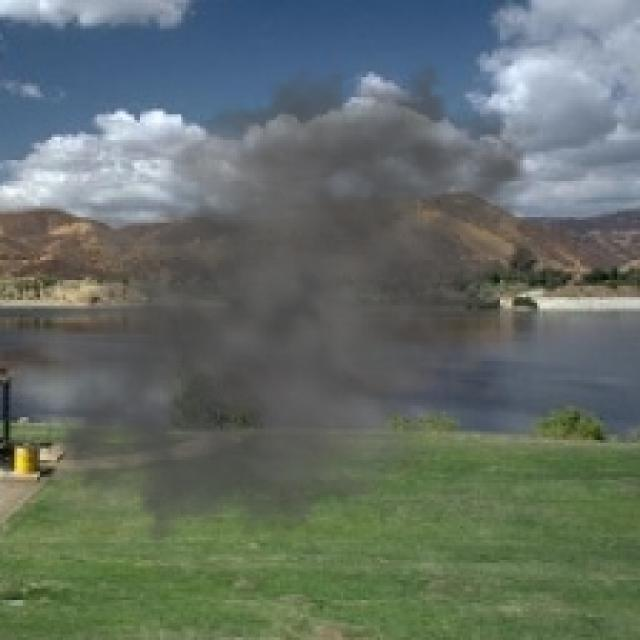Smoke: (17, 28, 569, 580)
